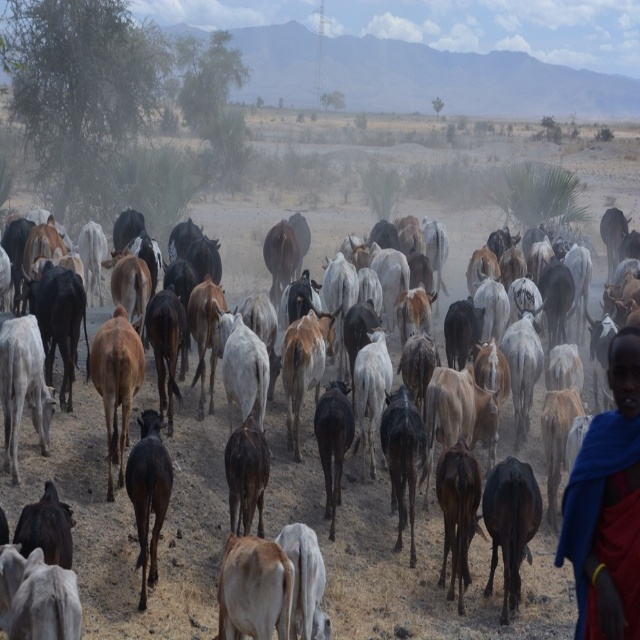Cattle: (0, 207, 640, 640)
